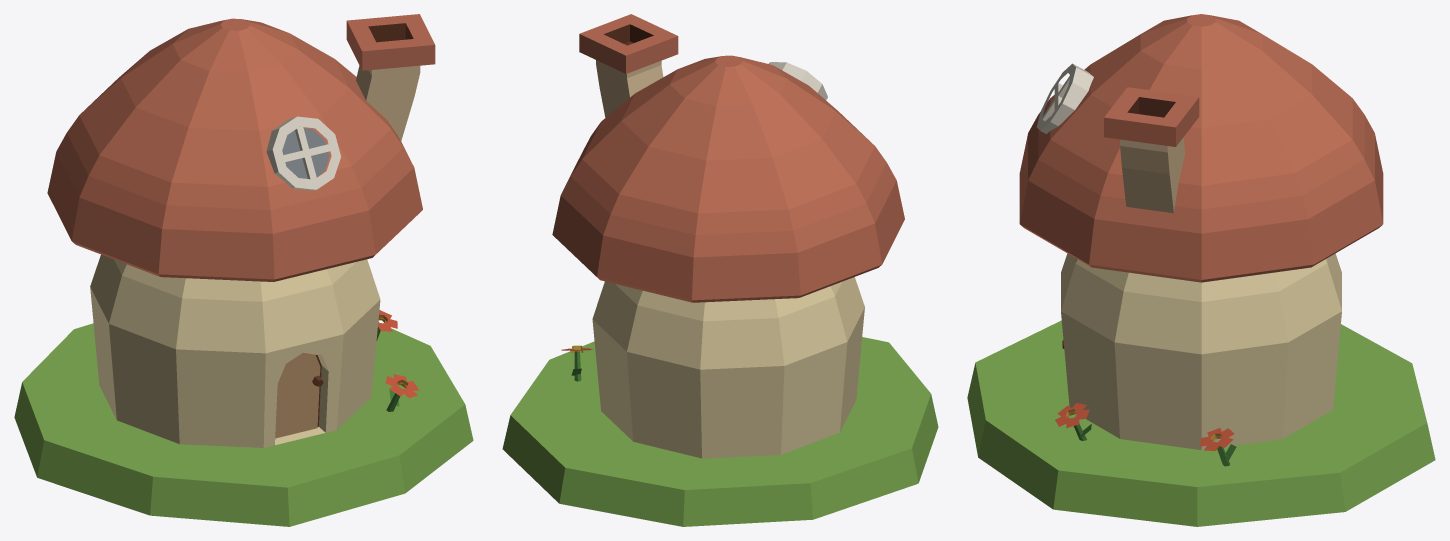
The model's file is mushroom-cottage-1135d1.glb.
The picture shows the model from 3 angles, left to right: view 1: azimuth 30°, elevation 25°; view 2: azimuth 150°, elevation 25°; view 3: azimuth 270°, elevation 25°; orthographic projection. The views are drawn at different scales.
Visible parts, largest first — view 1: mushroom-cottage-mesh; view 2: mushroom-cottage-mesh; view 3: mushroom-cottage-mesh.
Part boxes in pixels (x1,y1,x2,y2): mushroom-cottage-mesh: (14, 14, 473, 526); mushroom-cottage-mesh: (502, 14, 938, 526); mushroom-cottage-mesh: (967, 14, 1435, 526).
Bounding box in the file's own units: 1.4 × 1.34 × 1.4.
